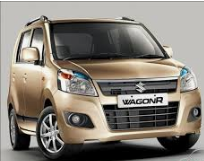car: (6, 16, 201, 159)
